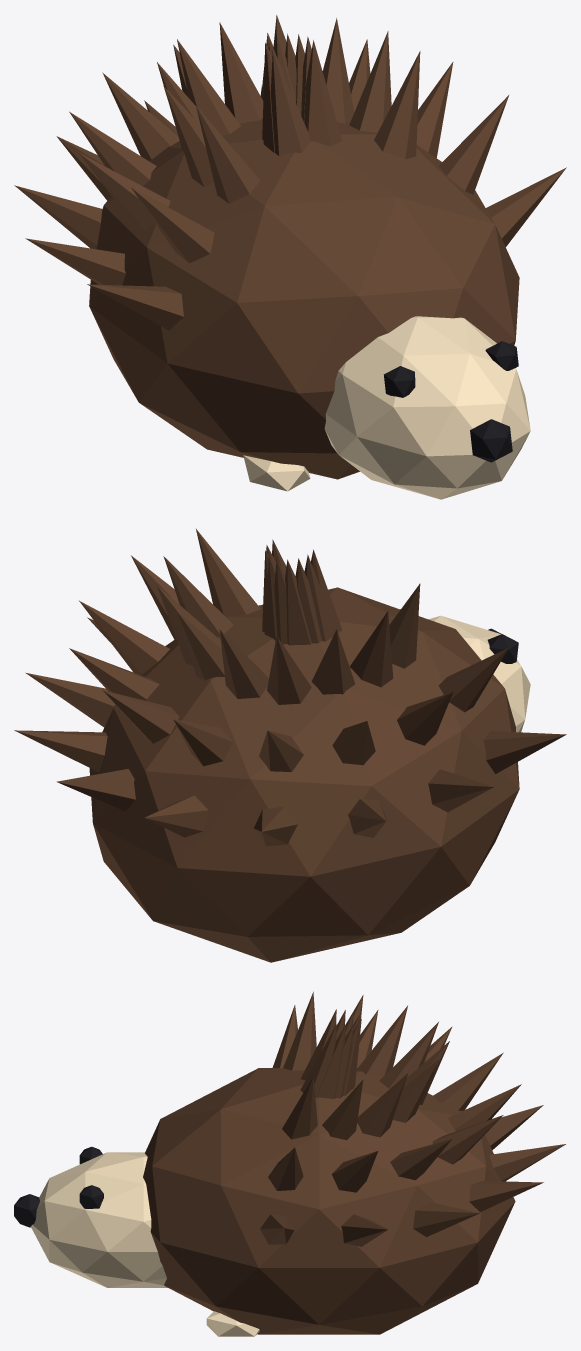
The model's file is Hedgehog.fbx.
3 renders of one model, top to bottom at view 1: azimuth 30°, elevation 25°; view 2: azimuth 150°, elevation 25°; view 3: azimuth 270°, elevation 25°, orthographic. The views are drawn at different scales.
Visible parts, largest first — view 1: Spines, Face, Eyes, Nose; view 2: Spines, Face, Eyes; view 3: Spines, Face, Eyes, Nose.
Part boxes in pixels (<box>): Spines: <box>14,15,566,479</box>; Face: <box>243,316,530,499</box>; Eyes: <box>383,341,518,397</box>; Nose: <box>470,419,512,462</box>; Spines: <box>14,529,566,962</box>; Face: <box>428,615,530,732</box>; Eyes: <box>400,609,518,663</box>; Spines: <box>143,991,565,1334</box>; Face: <box>31,1152,259,1336</box>; Eyes: <box>79,1146,103,1208</box>; Nose: <box>14,1194,39,1227</box>.
Size of the model in its own units: 2.07 by 1.64 by 2.68.
